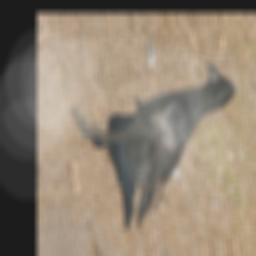Crow: (66, 64, 253, 231)
